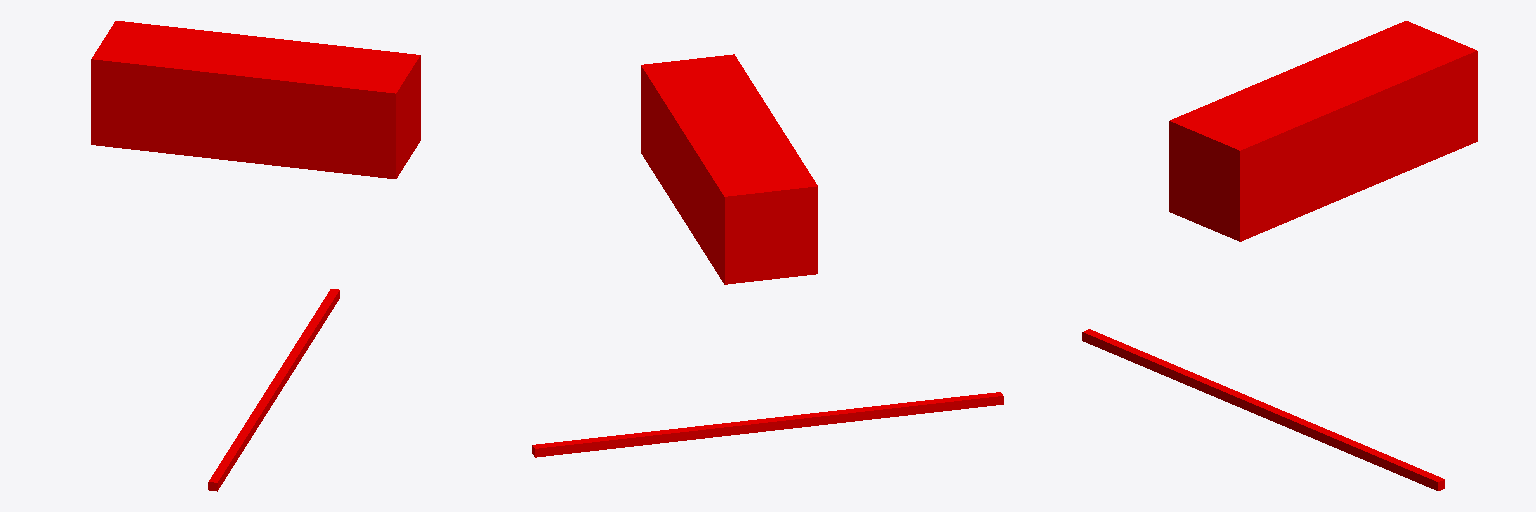
The robot description file, URDF, robot "panda":
<?xml version="1.0" ?>
<!-- =================================================================================== -->
<!-- |    This document was autogenerated by xacro from panda_arm_hand.urdf.xacro      | -->
<!-- |    EDITING THIS FILE BY HAND IS NOT RECOMMENDED                                 | -->
<!-- =================================================================================== -->
<robot name="panda"
  xmlns:xacro="http://www.ros.org/wiki/xacro">
  <link name="panda_link0">
    <inertial>
      <origin rpy="0 0 0" xyz="0 0 0.05"/>
      <mass value="2.9"/>
      <inertia ixx="0.1" ixy="0" ixz="0" iyy="0.1" iyz="0" izz="0.1"/>
    </inertial>
    <visual>
      <geometry>
        <mesh filename="package://meshes/collision/link0.obj"/>
      </geometry>
      <material name="panda_white">
        <color rgba="1. 1. 1. 1."/>
      </material>
    </visual>
    <collision>
      <geometry>
        <mesh filename="package://meshes/collision/link0.obj"/>
      </geometry>
      <material name="panda_white"/>
    </collision>
  </link>
  <link name="panda_link1">
    <inertial>
      <origin rpy="0 0 0" xyz="0 -0.04 -0.05"/>
      <mass value="2.7"/>
      <inertia ixx="0.1" ixy="0" ixz="0" iyy="0.1" iyz="0" izz="0.1"/>
    </inertial>
    <visual>
      <geometry>
        <mesh filename="package://meshes/visual/link1.obj"/>
      </geometry>
      <material name="panda_white"/>
    </visual>
    <collision>
      <geometry>
        <mesh filename="package://meshes/collision/link1.obj"/>
      </geometry>
      <material name="panda_white"/>
    </collision>
  </link>
  <joint name="panda_joint1" type="revolute">
    <safety_controller k_position="100.0" k_velocity="40.0" soft_lower_limit="-2.8973" soft_upper_limit="2.8973"/>
    <origin rpy="0 0 0" xyz="0 0 0.333"/>
    <parent link="panda_link0"/>
    <child link="panda_link1"/>
    <axis xyz="0 0 1"/>
    <limit effort="87" lower="-2.9671" upper="2.9671" velocity="2.1750"/>
  </joint>
  <link name="panda_link2">
    <inertial>
      <origin rpy="0 0 0" xyz="0 -0.04 0.06"/>
      <mass value="2.73"/>
      <inertia ixx="0.1" ixy="0" ixz="0" iyy="0.1" iyz="0" izz="0.1"/>
    </inertial>
    <visual>
      <geometry>
        <mesh filename="package://meshes/visual/link2.obj"/>
      </geometry>
      <material name="panda_white"/>
    </visual>
    <collision>
      <geometry>
        <mesh filename="package://meshes/collision/link2.obj"/>
      </geometry>
      <material name="panda_white"/>
    </collision>
  </link>
  <joint name="panda_joint2" type="revolute">
    <safety_controller k_position="100.0" k_velocity="40.0" soft_lower_limit="-1.7628" soft_upper_limit="1.7628"/>
    <origin rpy="-1.57079632679 0 0" xyz="0 0 0"/>
    <parent link="panda_link1"/>
    <child link="panda_link2"/>
    <axis xyz="0 0 1"/>
    <limit effort="87" lower="-1.8326" upper="1.8326" velocity="2.1750"/>
  </joint>
  <link name="panda_link3">
    <inertial>
      <origin rpy="0 0 0" xyz="0.01 0.01 -0.05"/>
      <mass value="2.04"/>
      <inertia ixx="0.1" ixy="0" ixz="0" iyy="0.1" iyz="0" izz="0.1"/>
    </inertial>
    <visual>
      <geometry>
        <mesh filename="package://meshes/visual/link3.obj"/>
      </geometry>
      <material name="panda_red">
        <color rgba="1. 1. 1. 1."/>
      </material>
    </visual>
    <collision>
      <geometry>
        <mesh filename="package://meshes/collision/link3.obj"/>
      </geometry>
    </collision>
  </link>
  <joint name="panda_joint3" type="revolute">
    <safety_controller k_position="100.0" k_velocity="40.0" soft_lower_limit="-2.8973" soft_upper_limit="2.8973"/>
    <origin rpy="1.57079632679 0 0" xyz="0 -0.316 0"/>
    <parent link="panda_link2"/>
    <child link="panda_link3"/>
    <axis xyz="0 0 1"/>
    <limit effort="87" lower="-2.9671" upper="2.9671" velocity="2.1750"/>
  </joint>
  <link name="panda_link4">
    <inertial>
      <origin rpy="0 0 0" xyz="-0.03 0.03 0.02"/>
      <mass value="2.08"/>
      <inertia ixx="0.1" ixy="0" ixz="0" iyy="0.1" iyz="0" izz="0.1"/>
    </inertial>
    <visual>
      <geometry>
        <mesh filename="package://meshes/visual/link4.obj"/>
      </geometry>
      <material name="panda_white"/>
    </visual>
    <collision>
      <geometry>
        <mesh filename="package://meshes/collision/link4.obj"/>
      </geometry>
      <material name="panda_white"/>
    </collision>
  </link>
  <joint name="panda_joint4" type="revolute">
    <safety_controller k_position="100.0" k_velocity="40.0" soft_lower_limit="-3.0718" soft_upper_limit="-0.0698"/>
    <origin rpy="1.57079632679 0 0" xyz="0.0825 0 0"/>
    <parent link="panda_link3"/>
    <child link="panda_link4"/>
    <axis xyz="0 0 1"/>
    <limit effort="87" lower="-3.1416" upper="0.0" velocity="2.1750"/>
  </joint>
  <link name="panda_link5">
    <inertial>
      <origin rpy="0 0 0" xyz="0 0.04 -0.12"/>
      <mass value="3"/>
      <inertia ixx="0.1" ixy="0" ixz="0" iyy="0.1" iyz="0" izz="0.1"/>
    </inertial>
    <visual>
      <geometry>
        <mesh filename="package://meshes/visual/link5.obj"/>
      </geometry>
      <material name="panda_white"/>
    </visual>
    <collision>
      <geometry>
        <mesh filename="package://meshes/collision/link5.obj"/>
      </geometry>
      <material name="panda_white"/>
    </collision>
  </link>
  <joint name="panda_joint5" type="revolute">
    <safety_controller k_position="100.0" k_velocity="40.0" soft_lower_limit="-2.8973" soft_upper_limit="2.8973"/>
    <origin rpy="-1.57079632679 0 0" xyz="-0.0825 0.384 0"/>
    <parent link="panda_link4"/>
    <child link="panda_link5"/>
    <axis xyz="0 0 1"/>
    <limit effort="12" lower="-2.9671" upper="2.9671" velocity="2.6100"/>
  </joint>
  <link name="panda_link6">
    <inertial>
      <origin rpy="0 0 0" xyz="0.04 0 0"/>
      <mass value="1.3"/>
      <inertia ixx="0.1" ixy="0" ixz="0" iyy="0.1" iyz="0" izz="0.1"/>
    </inertial>
    <visual>
      <geometry>
        <mesh filename="package://meshes/visual/link6.obj"/>
      </geometry>
      <material name="panda_white"/>
    </visual>
    <collision>
      <geometry>
        <mesh filename="package://meshes/collision/link6.obj"/>
      </geometry>
      <material name="panda_white"/>
    </collision>
  </link>
  <joint name="panda_joint6" type="revolute">
    <safety_controller k_position="100.0" k_velocity="40.0" soft_lower_limit="-0.0175" soft_upper_limit="3.7525"/>
    <origin rpy="1.57079632679 0 0" xyz="0 0 0"/>
    <parent link="panda_link5"/>
    <child link="panda_link6"/>
    <axis xyz="0 0 1"/>
    <limit effort="12" lower="-0.0873" upper="3.8223" velocity="2.6100"/>
  </joint>
  <link name="panda_link7">
    <inertial>
      <origin rpy="0 0 0" xyz="0 0 0.08"/>
      <mass value=".2"/>
      <inertia ixx="0.1" ixy="0" ixz="0" iyy="0.1" iyz="0" izz="0.1"/>
    </inertial>
    <visual>
      <geometry>
        <mesh filename="package://meshes/collision/link7.obj"/>
      </geometry>
      <material name="panda_white"/>
    </visual>
    <collision>
      <geometry>
        <mesh filename="package://meshes/collision/link7.obj"/>
      </geometry>
      <material name="panda_white"/>
    </collision>
  </link>
  <joint name="panda_joint7" type="revolute">
    <safety_controller k_position="100.0" k_velocity="40.0" soft_lower_limit="-2.8973" soft_upper_limit="2.8973"/>
    <origin rpy="1.57079632679 0 0" xyz="0.088 0 0"/>
    <parent link="panda_link6"/>
    <child link="panda_link7"/>
    <axis xyz="0 0 1"/>
    <limit effort="12" lower="-2.9671" upper="2.9671" velocity="2.6100"/>
  </joint>
  <link name="panda_link8">
    <inertial>
      <origin rpy="0 0 0" xyz="0 0 0"/>
      <mass value="0.0"/>
      <inertia ixx="0.1" ixy="0" ixz="0" iyy="0.1" iyz="0" izz="0.1"/>
    </inertial>
  </link>
  <joint name="panda_joint8" type="fixed">
    <origin rpy="0 0 0" xyz="0 0 0.107"/>
    <parent link="panda_link7"/>
    <child link="panda_link8"/>
    <axis xyz="0 0 0"/>
  </joint>
  <joint name="panda_hand_joint" type="fixed">
    <parent link="panda_link8"/>
    <child link="panda_hand"/>
    <origin rpy="0 0 -0.785398163397" xyz="0 0 0"/>
  </joint>
  <link name="panda_hand">
    <inertial>
      <origin rpy="0 0 0" xyz="0 0 0.04"/>
      <mass value=".81"/>
      <inertia ixx="0.1" ixy="0" ixz="0" iyy="0.1" iyz="0" izz="0.1"/>
    </inertial>
    <visual>
      <geometry>
        <mesh filename="package://meshes/visual/hand.obj"/>
      </geometry>
      <material name="panda_white"/>
    </visual>
    <collision>
      <geometry>
        <mesh filename="package://meshes/collision/hand.obj"/>
      </geometry>
      <material name="panda_white"/>
    </collision>
  </link>

  <link name="cam">
    <contact>
      <friction_anchor/>
      <stiffness value="30000.0"/>
      <damping value="1000.0"/>
      <spinning_friction value="0.1"/>
      <lateral_friction value="1.0"/>
    </contact>
    <inertial>
      <origin rpy="0 0 0" xyz="0 0 0"/>
      <mass value="0.1"/>
      <inertia ixx="0.1" ixy="0" ixz="0" iyy="0.1" iyz="0" izz="0.1"/>
    </inertial>
    <visual>
      <origin rpy="0 0 0" xyz="-0.06 0 -0.035"/>
      <geometry>
        <box size="0.03 0.1 0.03"/>
      </geometry>
      <material name="stick_red">
        <color rgba="1 0.0 0.0 1"/>
      </material>
    </visual>
    <collision>
      <origin rpy="0 0 0" xyz="-0.06 0 -0.035"/>
      <geometry>
        <box size="0.03 0.1 0.03"/>
      </geometry>
    </collision>
  </link>
  <joint name="cam_joint" type="fixed">
    <parent link="panda_hand"/>
    <child link="cam"/>
    <origin rpy="0 0 0" xyz="0 -0.005 0.05"/>
  </joint>

  <link name="panda_leftfinger">
    <contact>
      <friction_anchor/>
      <stiffness value="30000.0"/>
      <damping value="1000.0"/>
      <spinning_friction value="0.1"/>
      <lateral_friction value="1.0"/>
    </contact>
    <inertial>
      <origin rpy="0 0 0" xyz="0 0.01 0.02"/>
      <mass value="0.1"/>
      <inertia ixx="0.1" ixy="0" ixz="0" iyy="0.1" iyz="0" izz="0.1"/>
    </inertial>
    <visual>
      <geometry>
        <mesh filename="package://meshes/visual/finger.obj"/>
      </geometry>
      <material name="panda_white"/>
    </visual>
    <collision>
      <geometry>
        <mesh filename="package://meshes/collision/finger.obj"/>
      </geometry>
      <material name="panda_white"/>
    </collision>
  </link>
  <link name="panda_rightfinger">
    <contact>
      <friction_anchor/>
      <stiffness value="30000.0"/>
      <damping value="1000.0"/>
      <spinning_friction value="0.1"/>
      <lateral_friction value="1.0"/>
    </contact>
    <inertial>
      <origin rpy="0 0 0" xyz="0 -0.01 0.02"/>
      <mass value="0.1"/>
      <inertia ixx="0.1" ixy="0" ixz="0" iyy="0.1" iyz="0" izz="0.1"/>
    </inertial>
    <visual>
      <origin rpy="0 0 3.14159265359" xyz="0 0 0"/>
      <geometry>
        <mesh filename="package://meshes/visual/finger.obj"/>
      </geometry>
      <material name="panda_white"/>
    </visual>
    <collision>
      <origin rpy="0 0 3.14159265359" xyz="0 0 0"/>
      <geometry>
        <mesh filename="package://meshes/collision/finger.obj"/>
      </geometry>
      <material name="panda_white"/>
    </collision>
  </link>

  <link name="stick">
    <contact>
      <friction_anchor/>
      <stiffness value="30000.0"/>
      <damping value="1000.0"/>
      <spinning_friction value="0.1"/>
      <lateral_friction value="1.0"/>
    </contact>
    <inertial>
      <origin rpy="0 0 0" xyz="0 0 0"/>
      <mass value="0.1"/>
      <inertia ixx="0.1" ixy="0" ixz="0" iyy="0.1" iyz="0" izz="0.1"/>
    </inertial>
    <visual>
      <origin rpy="0 0 0" xyz="-0.075 0 0"/>
      <geometry>
        <box size="0.15 0.003 0.003"/>
      </geometry>
      <material name="stick_red">
        <color rgba="1 0.0 0.0 1"/>
      </material>
    </visual>
    <collision>
      <origin rpy="0 0 0" xyz="-0.075 0 0"/>
      <geometry>
        <box size="0.15 0.003 0.003"/>
      </geometry>
    </collision>
  </link>
  <joint name="stick_finger_joint" type="fixed">
    <parent link="panda_leftfinger"/>
    <child link="stick"/>
    <origin rpy="0 0 0" xyz="0 0.005 0.05"/>
  </joint>

  <link name="sticktarget">
    <inertial>
      <origin rpy="0 0 0" xyz="0 0 0"/>
      <mass value="0.0"/>
      <inertia ixx="0.1" ixy="0" ixz="0" iyy="0.1" iyz="0" izz="0.1"/>
    </inertial>
  </link>
  <joint name="sticktarget_hand" type="fixed">
    <parent link="stick"/>
    <child link="sticktarget"/>
    <origin rpy="0 0 0" xyz="-0.15 0 0"/>
  </joint>

  <joint name="panda_finger_joint1" type="prismatic">
    <parent link="panda_hand"/>
    <child link="panda_leftfinger"/>
    <origin rpy="0 0 0" xyz="0 0 0.0584"/>
    <axis xyz="0 1 0"/>
    <limit effort="20" lower="0.0" upper="0.04" velocity="0.2"/>
  </joint>
  <joint name="panda_finger_joint2" type="prismatic">
    <parent link="panda_hand"/>
    <child link="panda_rightfinger"/>
    <origin rpy="0 0 0" xyz="0 0 0.0584"/>
    <axis xyz="0 -1 0"/>
    <limit effort="20" lower="0.0" upper="0.04" velocity="0.2"/>
    <mimic joint="panda_finger_joint1"/>
  </joint>
  <link name="panda_grasptarget">
    <inertial>
      <origin rpy="0 0 0" xyz="0 0 0"/>
      <mass value="0.0"/>
      <inertia ixx="0.1" ixy="0" ixz="0" iyy="0.1" iyz="0" izz="0.1"/>
    </inertial>
  </link>
  <joint name="panda_grasptarget_hand" type="fixed">
    <parent link="panda_hand"/>
    <child link="panda_grasptarget"/>
    <origin rpy="0 0 0" xyz="0 0 0.105"/>
  </joint>

</robot>

--- Facts derived from the render (not from the file) ---
The picture shows the robot from 3 angles, left to right: view 1: azimuth 30°, elevation 25°; view 2: azimuth 150°, elevation 25°; view 3: azimuth 270°, elevation 25°; orthographic projection.
Robot: panda — 16 links, 15 joints (7 revolute, 2 prismatic, 6 fixed); root link panda_link0; default pose: every joint at zero.
Links seen in each view (by area): view 1: cam, stick; view 2: cam, stick; view 3: cam, stick.
Boxes of the visible links, x1,y1,x2,y2 form: cam: (91,21,420,178); stick: (208,289,339,491); cam: (641,54,817,284); stick: (532,392,1003,457); cam: (1169,21,1477,241); stick: (1082,329,1444,490).
Size in the robot's own frame: 0.1082 by 0.1177 by 0.1099 metres.
0 mesh visuals loaded from 10 distinct referenced files (none loaded); not drawn: 11 (reference not matched to a file when rendering).